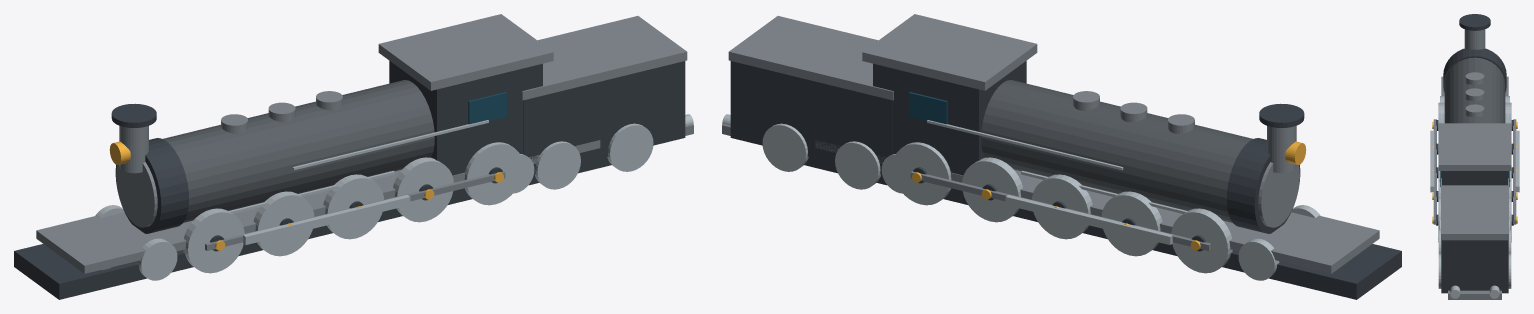
The model's file is QJ_steam_locomotive.glb.
3 renders of one model, left to right at view 1: azimuth 30°, elevation 25°; view 2: azimuth 150°, elevation 25°; view 3: azimuth 270°, elevation 25°, orthographic. The views are drawn at different scales.
Parts seen in each view (by area): view 1: QJ_Boiler, QJ_Tender_Body, QJ_Cab_Roof, QJ_Tender_Top, QJ_Cab, QJ_Deck, QJ_Frame, QJ_Smoke_Box, QJ_Driving_Wheel_L_01, QJ_Driving_Wheel_L_05, QJ_Driving_Wheel_L_04, QJ_Driving_Wheel_L_03 (+15 smaller); view 2: QJ_Boiler, QJ_Tender_Body, QJ_Cab_Roof, QJ_Tender_Top, QJ_Cab, QJ_Deck, QJ_Frame, QJ_Smoke_Box, QJ_Driving_Wheel_R_01, QJ_Driving_Wheel_R_05, QJ_Driving_Wheel_R_04, QJ_Driving_Wheel_R_03 (+15 smaller); view 3: QJ_Tender_Top, QJ_Cab_Roof, QJ_Tender_Body, QJ_Boiler, QJ_Cab, QJ_Smoke_Box, QJ_Chimney_Cap, QJ_Chimney, QJ_Buffer_Beam_Rear, QJ_Side_Rod_L, QJ_Side_Rod_R, QJ_Main_Rod_L (+15 smaller).
Part boxes in pixels (box(x1,y1,x2,y2)): QJ_Boiler: box(163, 80, 434, 222); QJ_Tender_Body: box(523, 61, 685, 174); QJ_Cab_Roof: box(378, 14, 553, 90); QJ_Tender_Top: box(522, 16, 687, 100); QJ_Cab: box(389, 61, 542, 175); QJ_Deck: box(36, 140, 600, 273); QJ_Frame: box(14, 157, 611, 299); QJ_Smoke_Box: box(115, 138, 189, 233); QJ_Driving_Wheel_L_01: box(183, 208, 244, 273); QJ_Driving_Wheel_L_05: box(464, 142, 523, 205); QJ_Driving_Wheel_L_04: box(393, 157, 453, 222); QJ_Driving_Wheel_L_03: box(323, 174, 383, 239); QJ_Boiler: box(981, 80, 1252, 222); QJ_Tender_Body: box(730, 61, 892, 174); QJ_Cab_Roof: box(862, 14, 1037, 90); QJ_Tender_Top: box(728, 16, 893, 100); QJ_Cab: box(873, 61, 1026, 175); QJ_Deck: box(815, 140, 1379, 273); QJ_Frame: box(804, 157, 1401, 299); QJ_Smoke_Box: box(1226, 138, 1300, 233); QJ_Driving_Wheel_R_01: box(1171, 208, 1232, 273); QJ_Driving_Wheel_R_05: box(892, 142, 951, 205); QJ_Driving_Wheel_R_04: box(962, 157, 1022, 222); QJ_Driving_Wheel_R_03: box(1032, 174, 1092, 239); QJ_Tender_Top: box(1441, 178, 1508, 240); QJ_Cab_Roof: box(1438, 123, 1511, 170); QJ_Tender_Body: box(1441, 240, 1508, 293); QJ_Boiler: box(1444, 57, 1505, 123); QJ_Cab: box(1442, 171, 1507, 185); QJ_Smoke_Box: box(1443, 48, 1506, 92); QJ_Chimney_Cap: box(1459, 14, 1490, 30); QJ_Chimney: box(1464, 29, 1485, 49); QJ_Buffer_Beam_Rear: box(1448, 290, 1501, 299); QJ_Side_Rod_L: box(1433, 119, 1436, 224); QJ_Side_Rod_R: box(1513, 119, 1516, 224); QJ_Main_Rod_L: box(1430, 130, 1434, 192).
Size of the model in its own units: 22.92 by 5.27 by 3.98.
